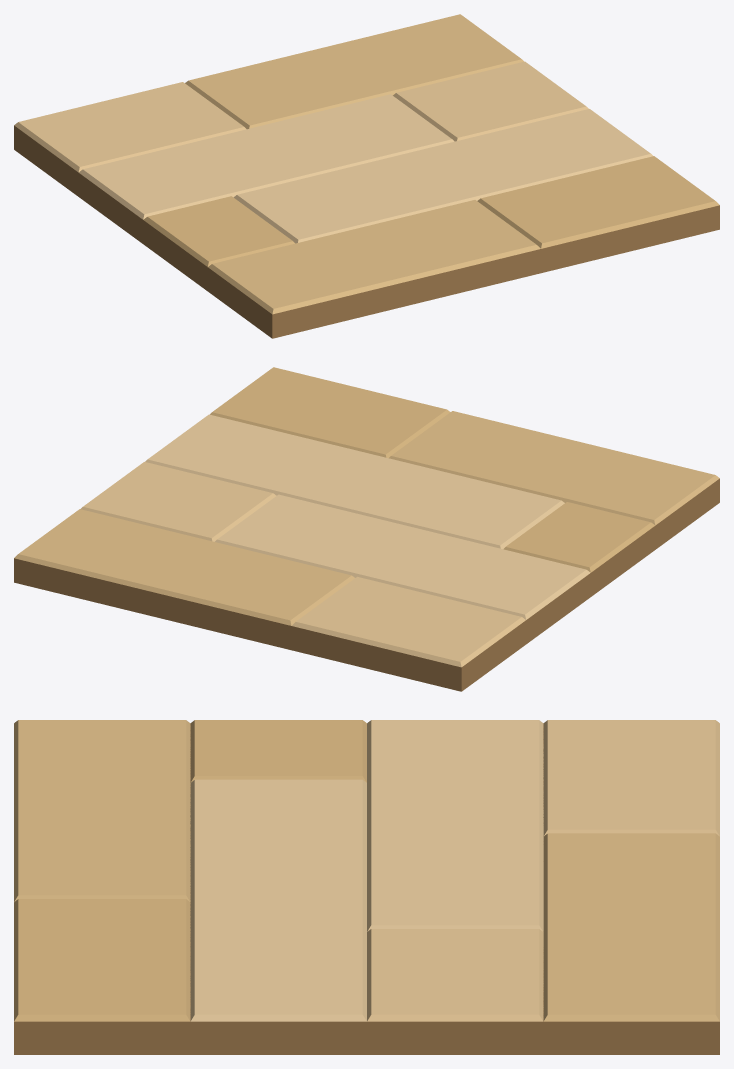
The model's file is wg_boden_holzhell_a.glb.
3 renders of one model, top to bottom at view 1: azimuth 30°, elevation 25°; view 2: azimuth 150°, elevation 25°; view 3: azimuth 270°, elevation 25°, orthographic. The views are drawn at different scales.
Parts seen in each view (by area): view 1: wg_boden_holzhell_a; view 2: wg_boden_holzhell_a; view 3: wg_boden_holzhell_a.
Part boxes in pixels (x1=…): wg_boden_holzhell_a: x1=14, y1=14, x2=719, y2=338; wg_boden_holzhell_a: x1=14, y1=367, x2=719, y2=691; wg_boden_holzhell_a: x1=14, y1=720, x2=719, y2=1054.
Size of the model in its own units: 1 by 0.06 by 1.
